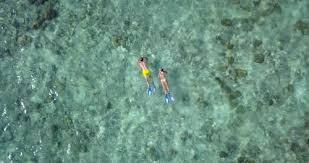Person: (134, 54, 158, 96), (156, 66, 175, 104)
